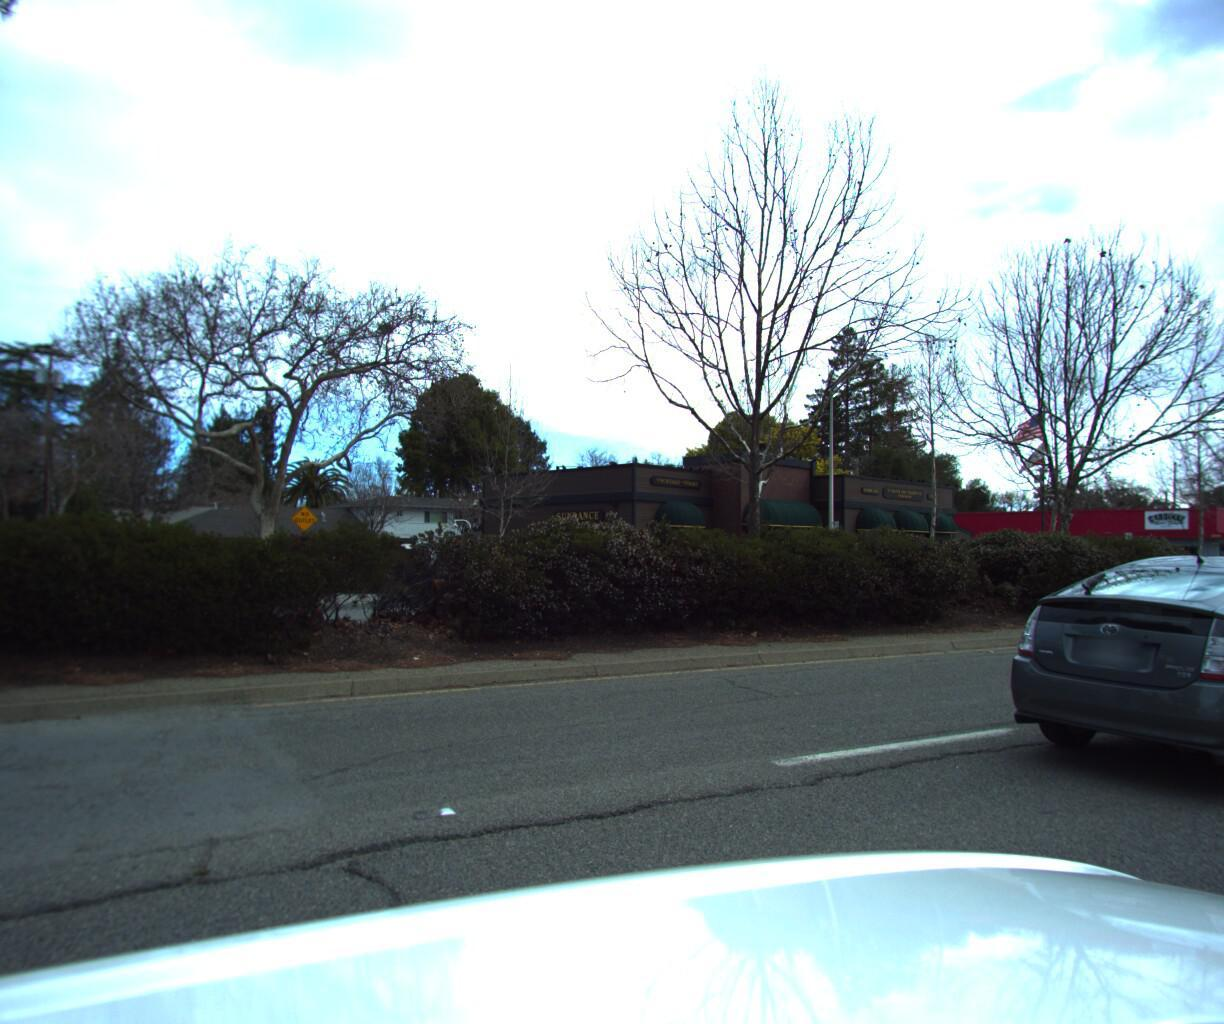car: (962, 540, 1224, 821)
